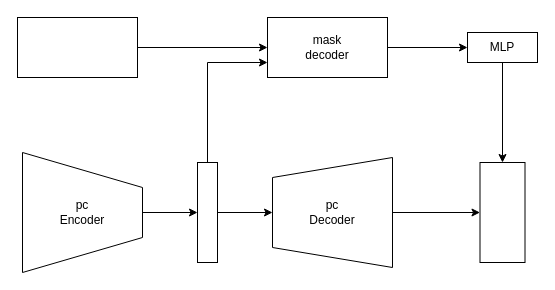
The diagram is 555 pixels wide and 290 high, and some of its shapes have lost their labels. The centre of each missing label's shape, as x and y in pixels:
"hard sample Encoder" belongs at (x=77, y=47).
"mask" belongs at (x=502, y=212).
